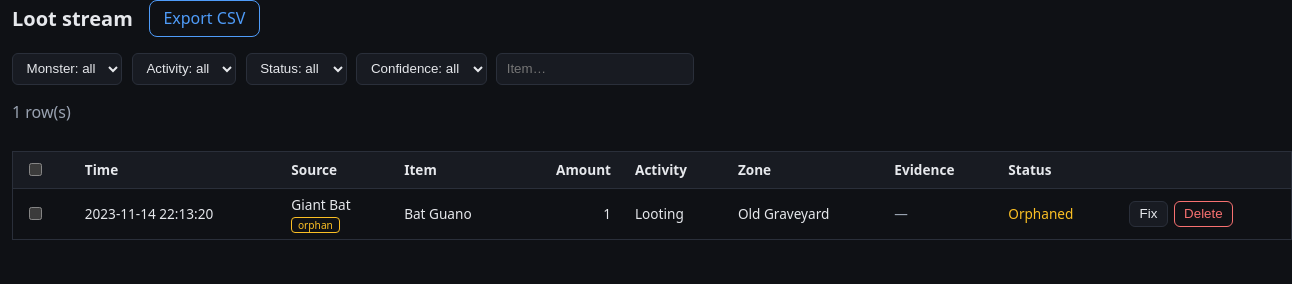
Test: LootPage › publishes selected rows when publish is configured
Check: the text "Bat Guano" is shown, box [392,188,516,240]
Click the checkbox named "Select row 7" at x=36, y=214, box [29,207,42,220]
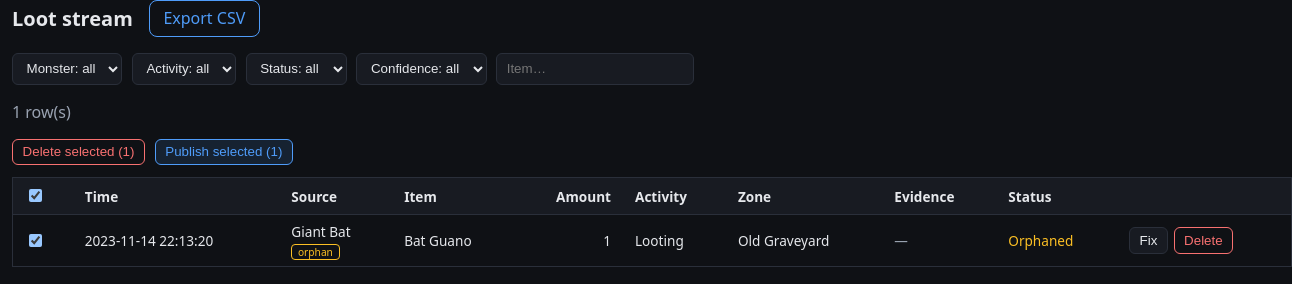
Click the button "Publish selected (1)" at x=224, y=152, box [155,139,293,165]
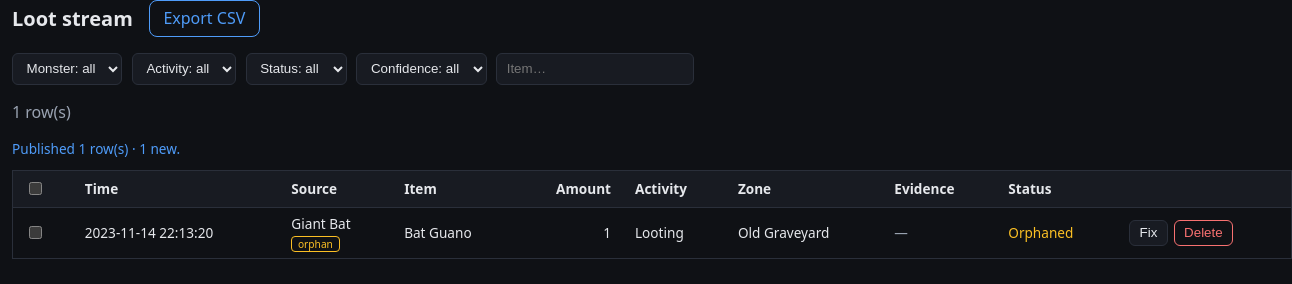
Check: the text "Published 1 row(s) · 1 new." is shown, box [12,139,180,158]
